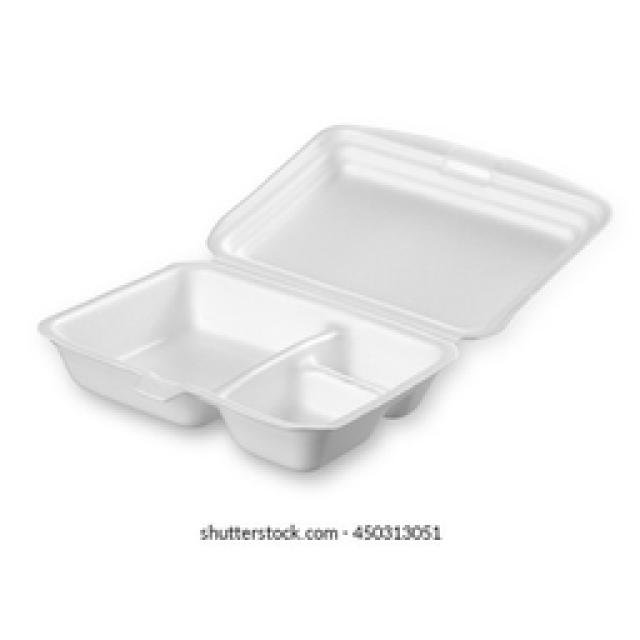styrofoam: (42, 125, 608, 468)
